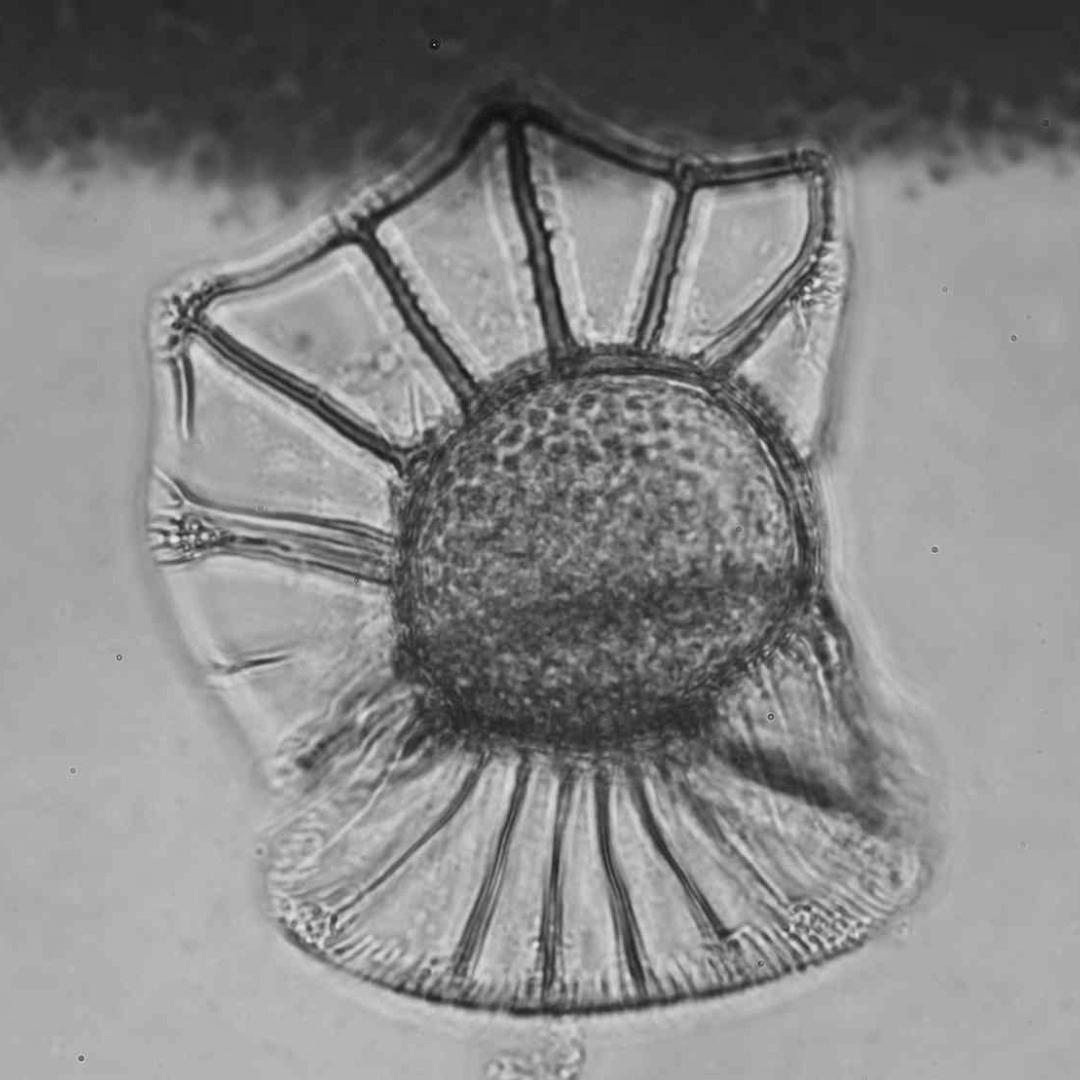ornithocercus_thumii: (147, 79, 936, 1015)
